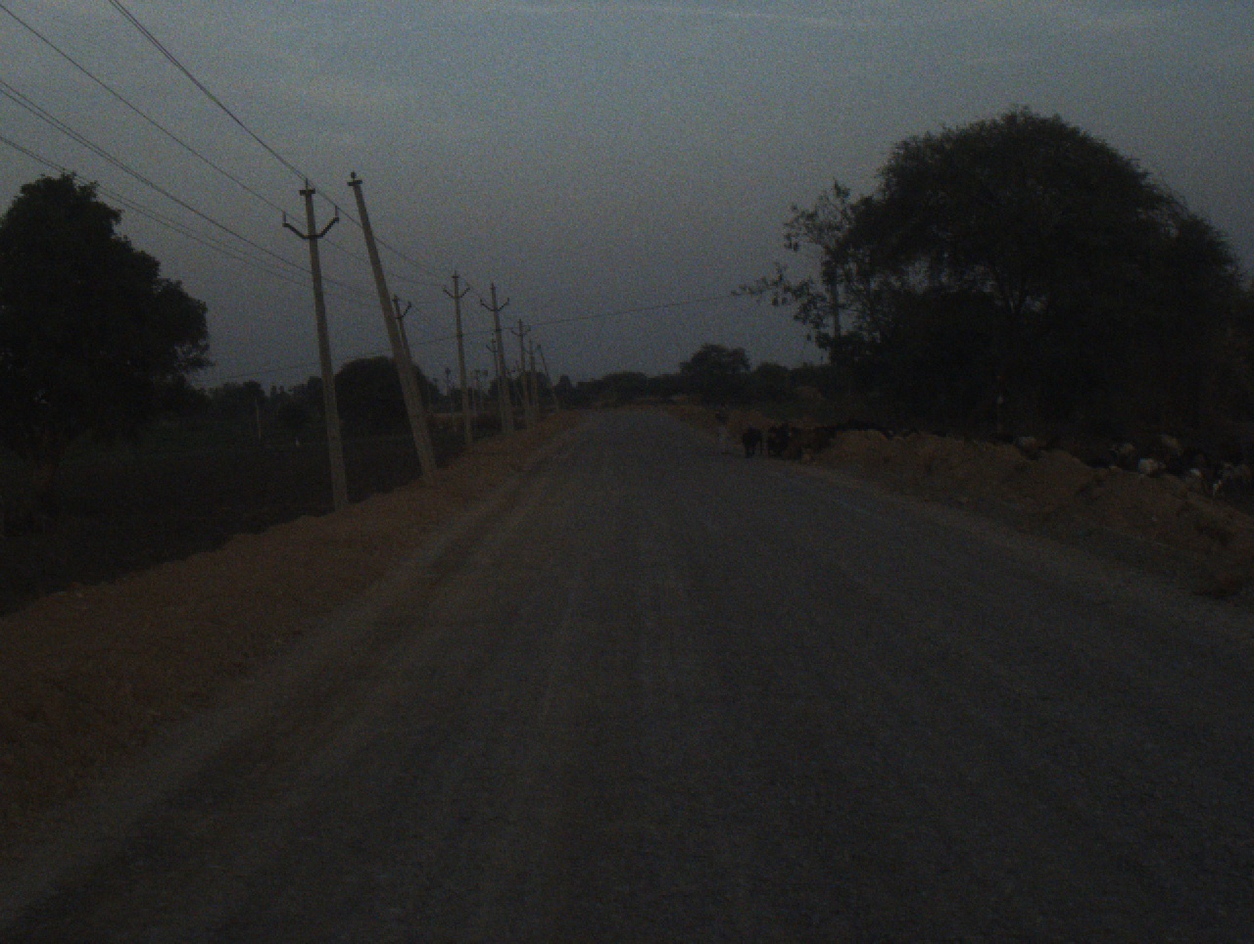animal: (1089, 427, 1189, 472), (1195, 442, 1247, 497), (998, 424, 1055, 454), (739, 431, 805, 456)
person: (715, 379, 735, 456)
